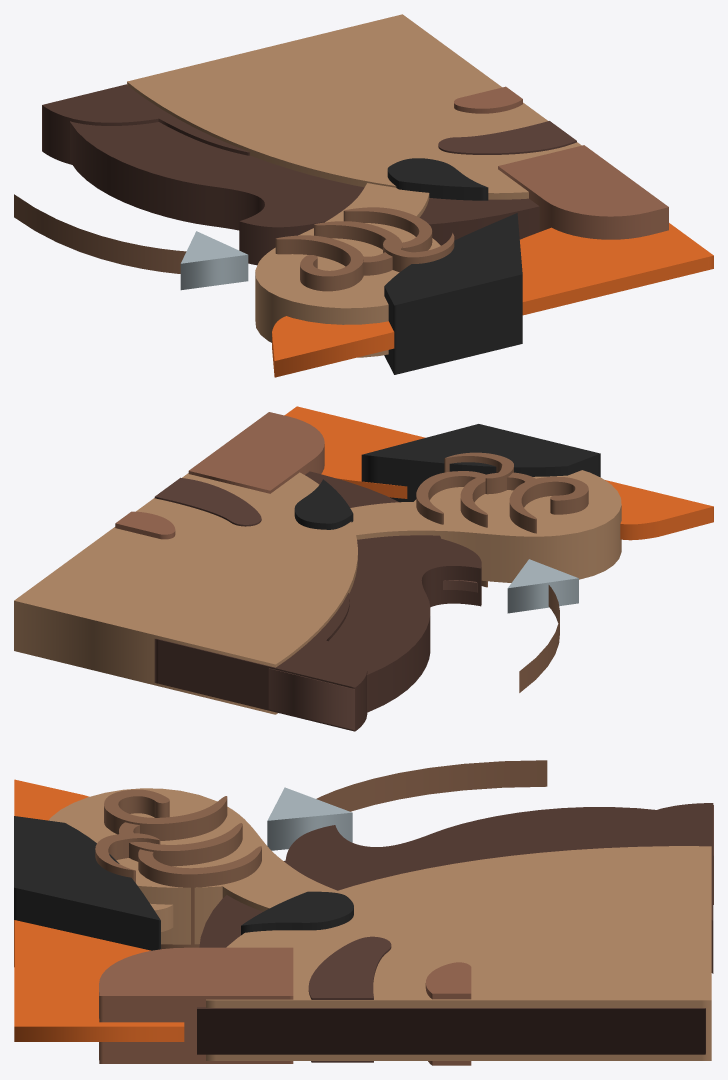
File: emoji_u1f9cf_1f3fd.glb
3 views of the same model, one above another, from view 1: azimuth 30°, elevation 25°; view 2: azimuth 150°, elevation 25°; view 3: azimuth 270°, elevation 25° (orthographic). The views are drawn at different scales.
Parts seen in each view (by area): view 1: emoji_u1f9cf_1f3fd; view 2: emoji_u1f9cf_1f3fd; view 3: emoji_u1f9cf_1f3fd.
Boxes of the visible parts, left/top/right/bottom form: emoji_u1f9cf_1f3fd: left=14, top=14, right=713, bottom=377; emoji_u1f9cf_1f3fd: left=14, top=406, right=713, bottom=731; emoji_u1f9cf_1f3fd: left=14, top=760, right=713, bottom=1065.
Bounding box in the file's own units: 0.0295 × 0.005 × 0.0335.
